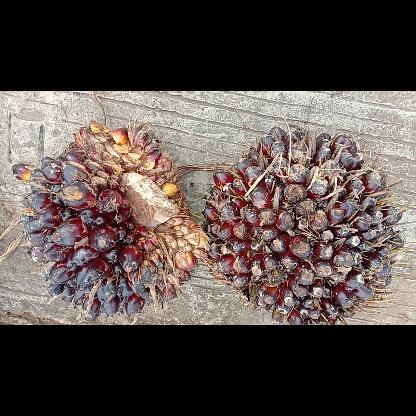TBS mentah: (198, 122, 406, 324), (19, 120, 212, 322)
